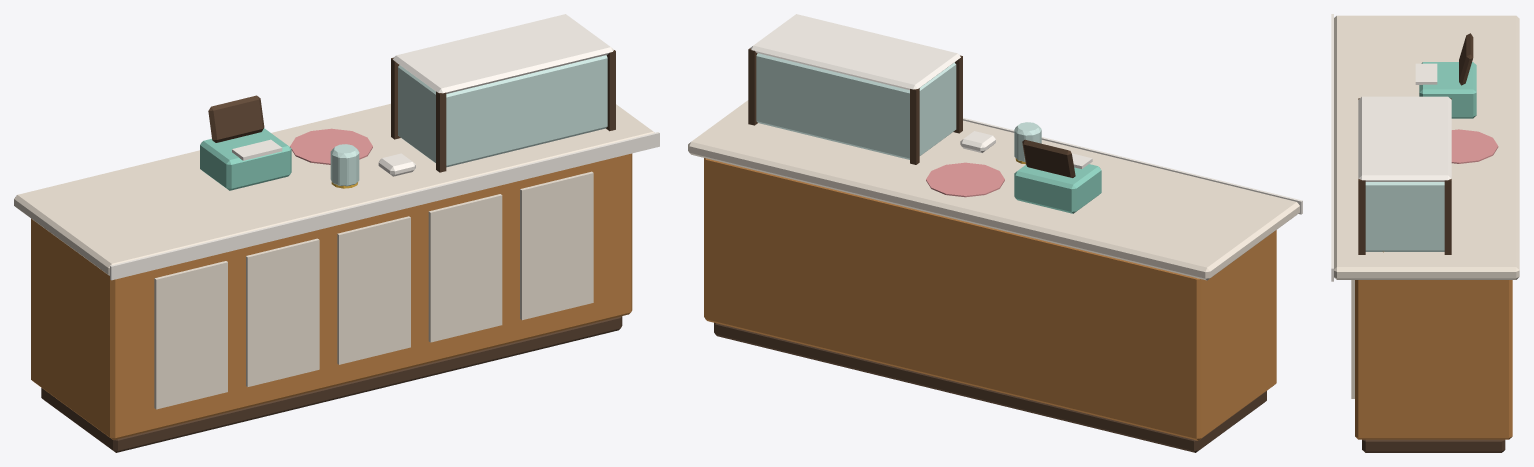
Rendered from CatCafe_Furniture_Counter.glb.
3 views of the same model, side by side, from view 1: azimuth 30°, elevation 25°; view 2: azimuth 150°, elevation 25°; view 3: azimuth 270°, elevation 25° (orthographic). The views are drawn at different scales.
Visible parts, largest first — view 1: CatCafe_Furniture_Counter; view 2: CatCafe_Furniture_Counter; view 3: CatCafe_Furniture_Counter.
Part boxes in pixels (<box>): CatCafe_Furniture_Counter: <box>14,14,659,452</box>; CatCafe_Furniture_Counter: <box>688,14,1302,452</box>; CatCafe_Furniture_Counter: <box>1331,14,1519,452</box>.
Bounding box in the file's own units: 8.4 × 4.2 × 2.63.
Materials: 1 (1 with a texture image).
